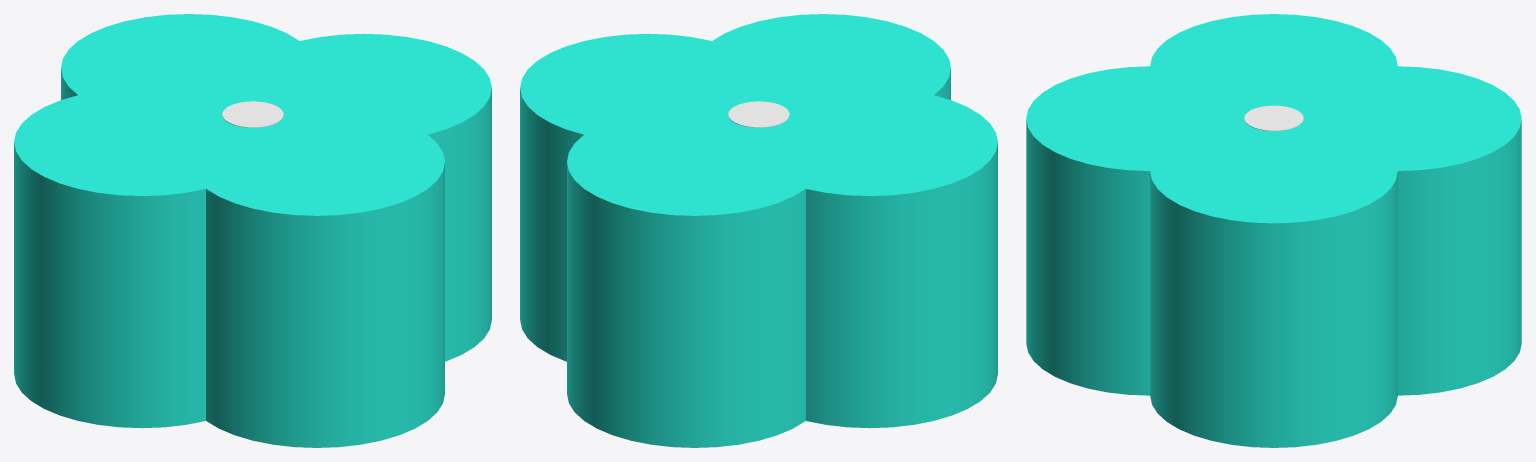
Rendered from x_huaban.obj.
The picture shows the model from 3 angles, left to right: view 1: azimuth 30°, elevation 25°; view 2: azimuth 150°, elevation 25°; view 3: azimuth 270°, elevation 25°; orthographic projection. The views are drawn at different scales.
Visible parts, largest first — view 1: sigeyaunzhu, yanzhuxin; view 2: sigeyaunzhu, yanzhuxin; view 3: sigeyaunzhu, yanzhuxin.
Part boxes in pixels (bbox=[...]): sigeyaunzhu: bbox=[14, 14, 491, 447]; yanzhuxin: bbox=[222, 101, 283, 127]; sigeyaunzhu: bbox=[520, 14, 997, 447]; yanzhuxin: bbox=[728, 101, 789, 127]; sigeyaunzhu: bbox=[1026, 14, 1521, 447]; yanzhuxin: bbox=[1244, 105, 1303, 131].
Size of the model in its own units: 10 by 5.01 by 10.
